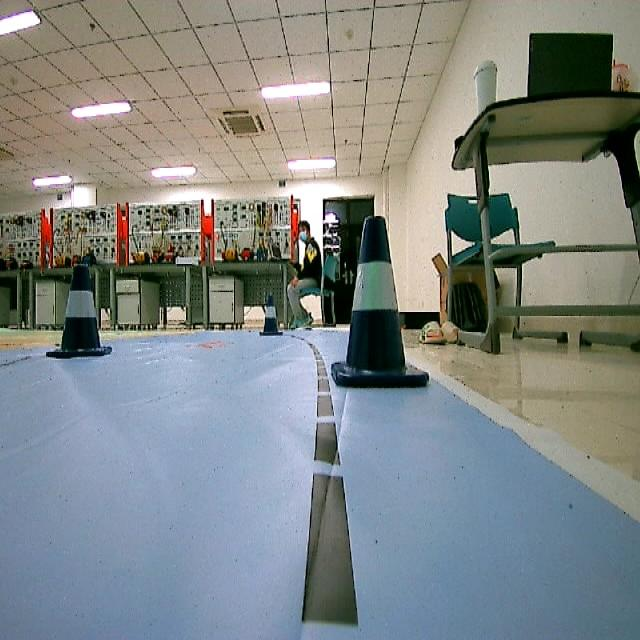obstacle: (338, 214, 432, 394), (46, 263, 112, 359), (254, 293, 283, 339)
